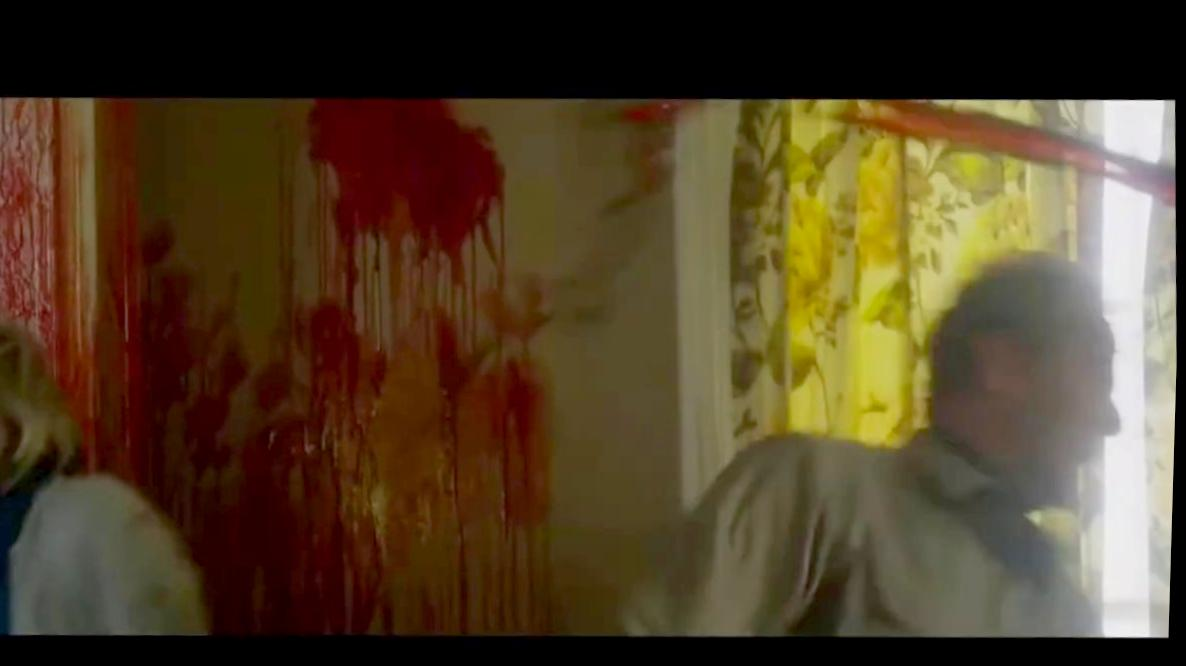Fire: (0, 97, 556, 634), (855, 94, 1177, 200), (609, 95, 705, 214)
